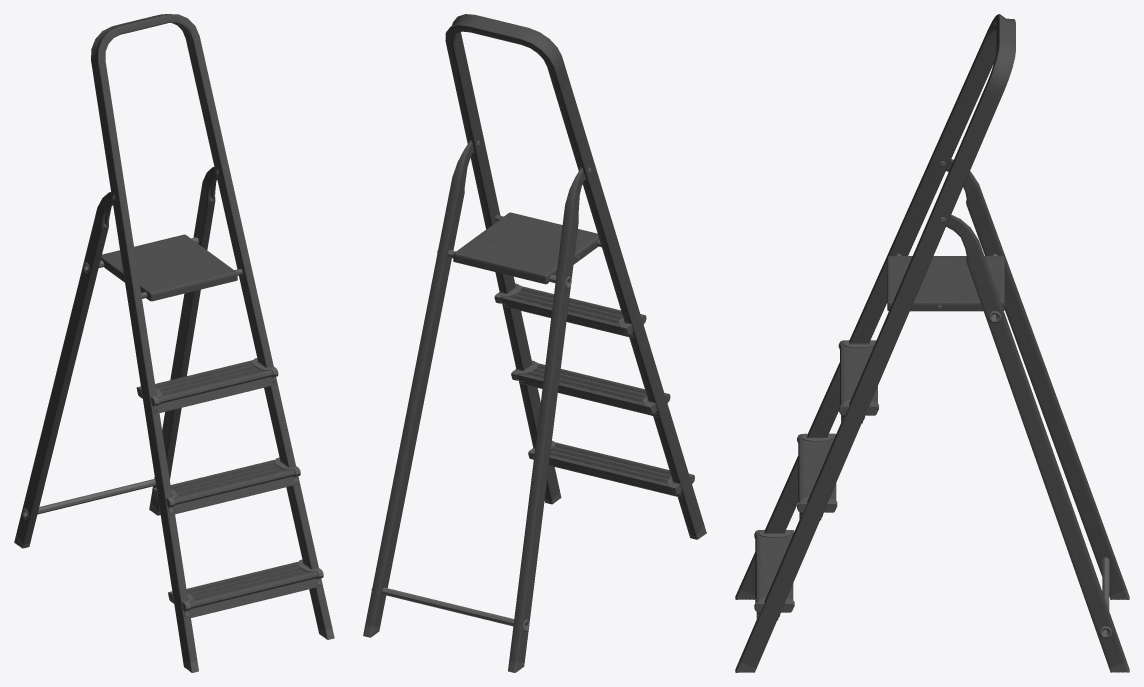
File: escalera.obj
3 views of the same model, side by side, from view 1: azimuth 30°, elevation 25°; view 2: azimuth 150°, elevation 25°; view 3: azimuth 270°, elevation 25° (orthographic). The views are drawn at different scales.
Parts seen in each view (by area): view 1: escalera; view 2: escalera; view 3: escalera.
Part boxes in pixels (x1,y1,x2,y2): escalera: (14,14,334,672); escalera: (363,14,706,672); escalera: (735,14,1129,672).
Bounding box in the file's own units: 15.05 × 54.94 × 32.51.
Materials: 1 (1 with a texture image).
